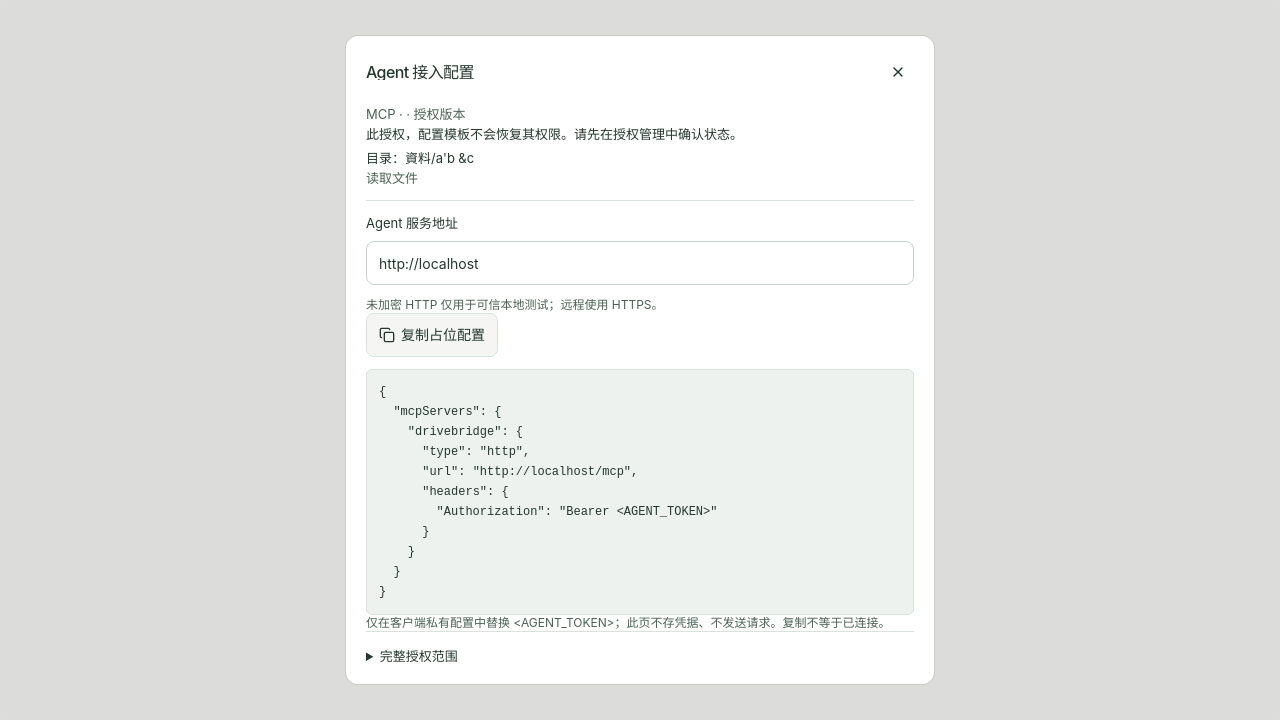
it: renders a scoped mcp template without requests or persistence
Replace the text in the field labelled "Agent 服务地址" with "https://drive.example.invalid/". click: x=640, y=263
box: [366,241,914,285]
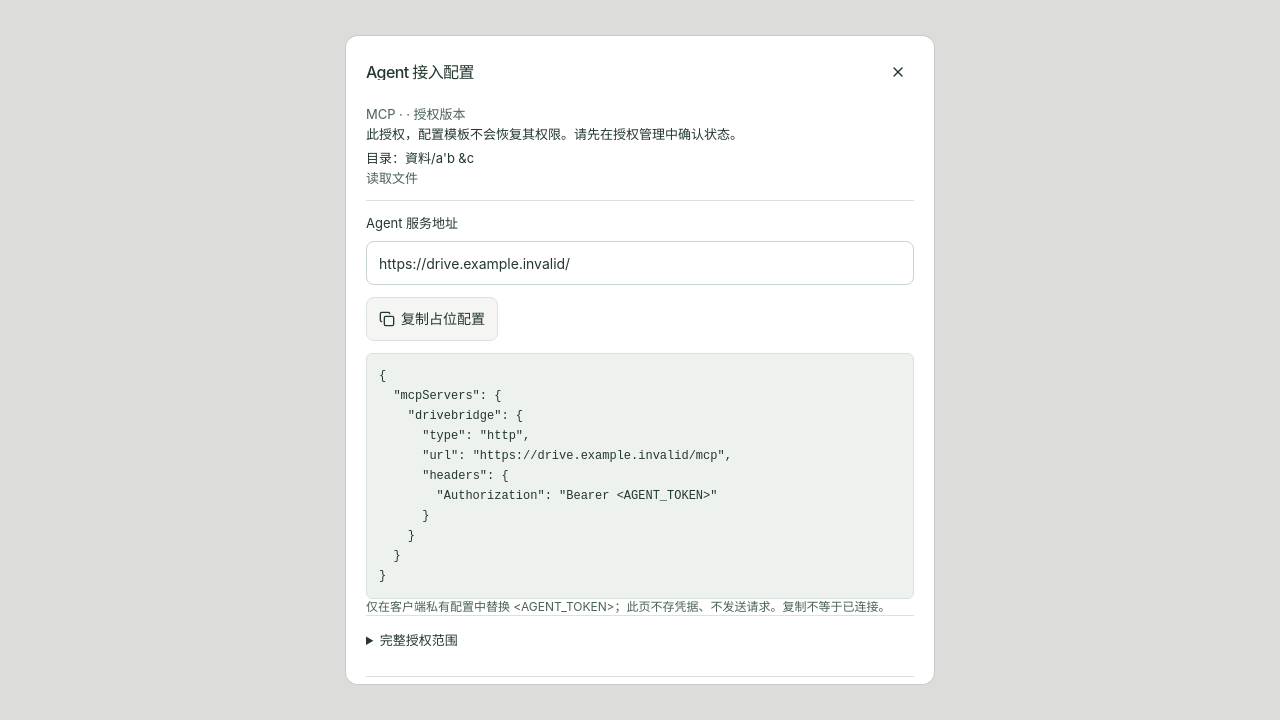
Click the button "复制占位配置". click: x=432, y=319
box: [366,297,498,341]
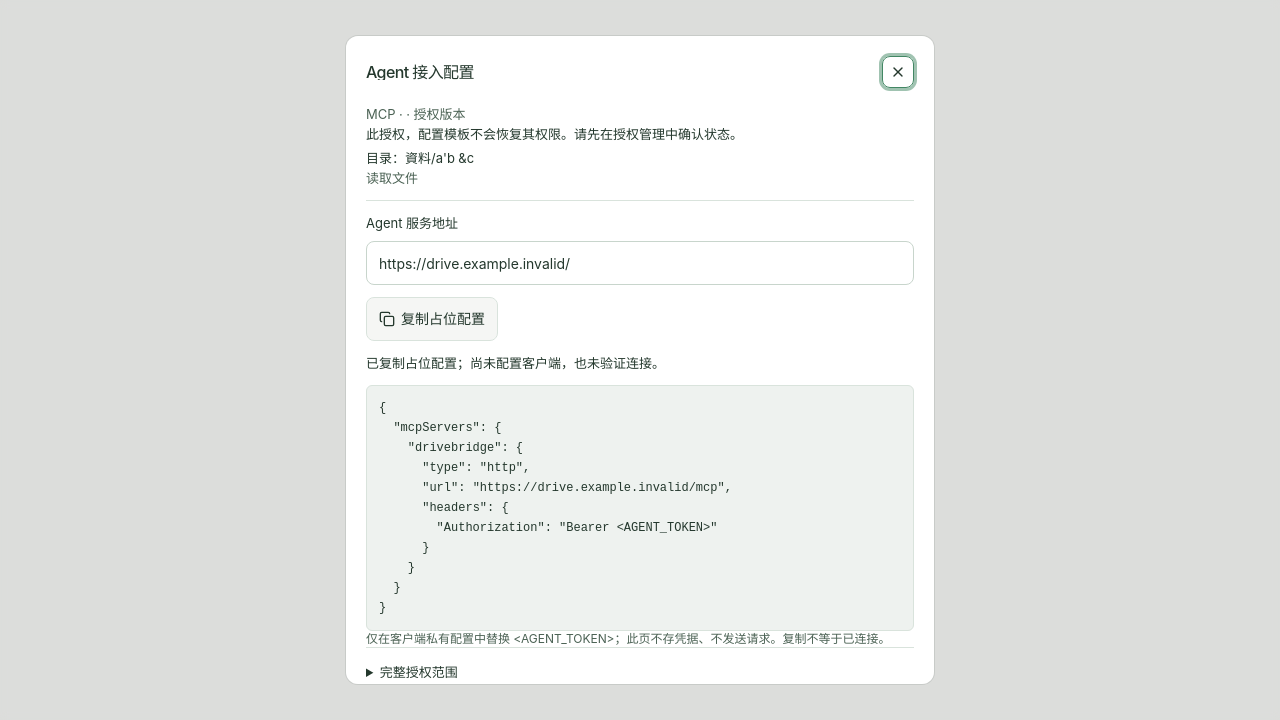
Result: the text "已复制占位配置；尚未配置客户端，也未验证连接。" is shown at [366,355,665,371]
